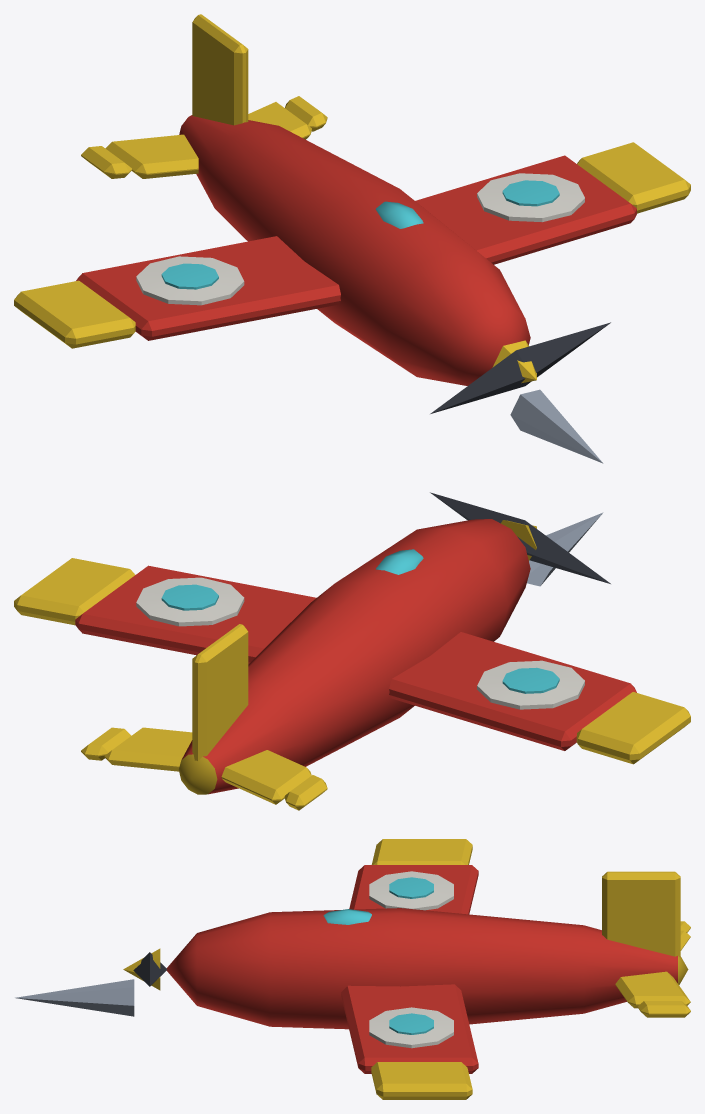
3 renders of one model, top to bottom at view 1: azimuth 30°, elevation 25°; view 2: azimuth 150°, elevation 25°; view 3: azimuth 270°, elevation 25°, orthographic. The views are drawn at different scales.
Visible parts, largest first — view 1: as_0_base, as_1_torreta; view 2: as_0_base, as_1_torreta; view 3: as_0_base, as_1_torreta.
Part boxes in pixels (bbox=[...]): as_0_base: bbox=[14, 14, 690, 463]; as_1_torreta: bbox=[430, 322, 610, 413]; as_0_base: bbox=[14, 512, 690, 810]; as_1_torreta: bbox=[430, 492, 610, 583]; as_0_base: bbox=[15, 839, 690, 1099]; as_1_torreta: bbox=[123, 948, 166, 990].
Size of the model in its own units: 1.13 by 0.323 by 1.3.
